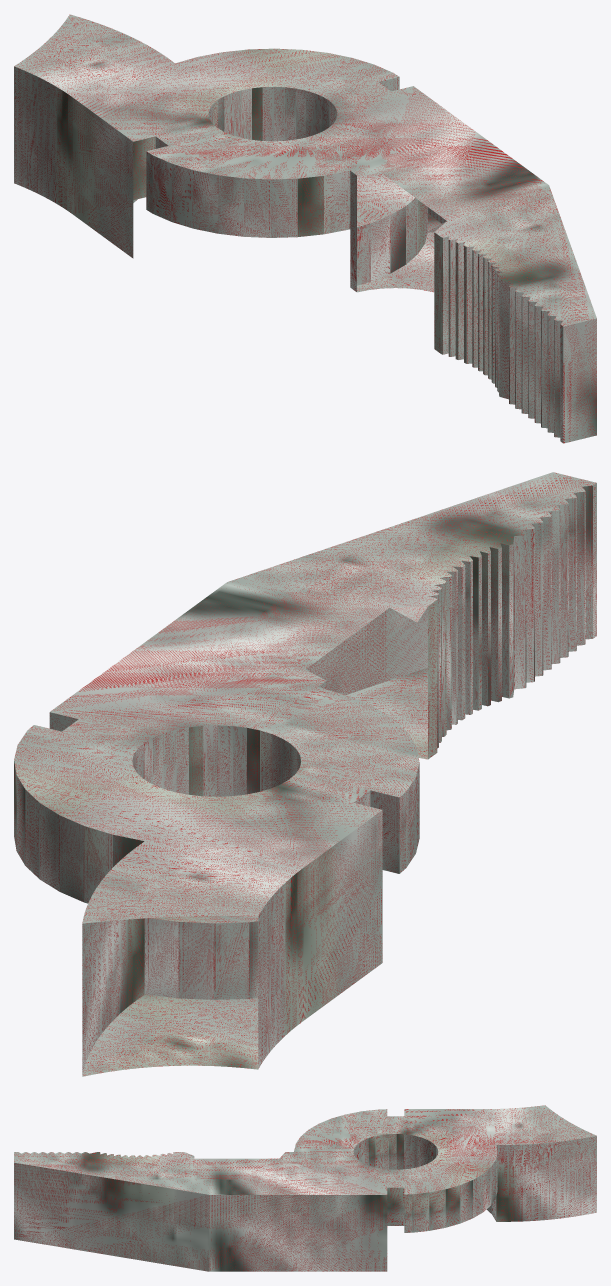
Rendered from original-8.obj.
3 renders of one model, top to bottom at view 1: azimuth 30°, elevation 25°; view 2: azimuth 150°, elevation 25°; view 3: azimuth 270°, elevation 25°, orthographic. The views are drawn at different scales.
Visible parts, largest first — view 1: #ID81; view 2: #ID81; view 3: #ID81.
Part boxes in pixels (bbox=[...]): #ID81: bbox=[14, 14, 596, 443]; #ID81: bbox=[14, 472, 596, 1076]; #ID81: bbox=[14, 1105, 596, 1271].
Bounding box in the file's own units: 0.2867 × 0.1147 × 0.7877.
